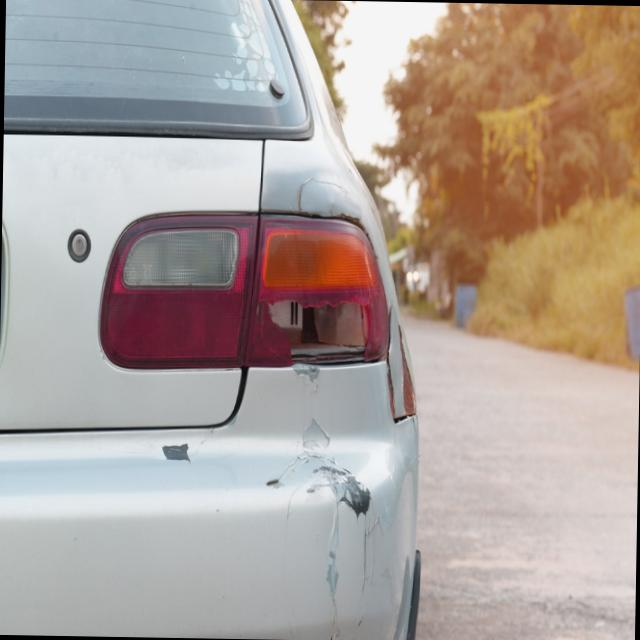Phare abime: (246, 283, 388, 370)
Rayure: (255, 420, 381, 640), (157, 439, 190, 470)
